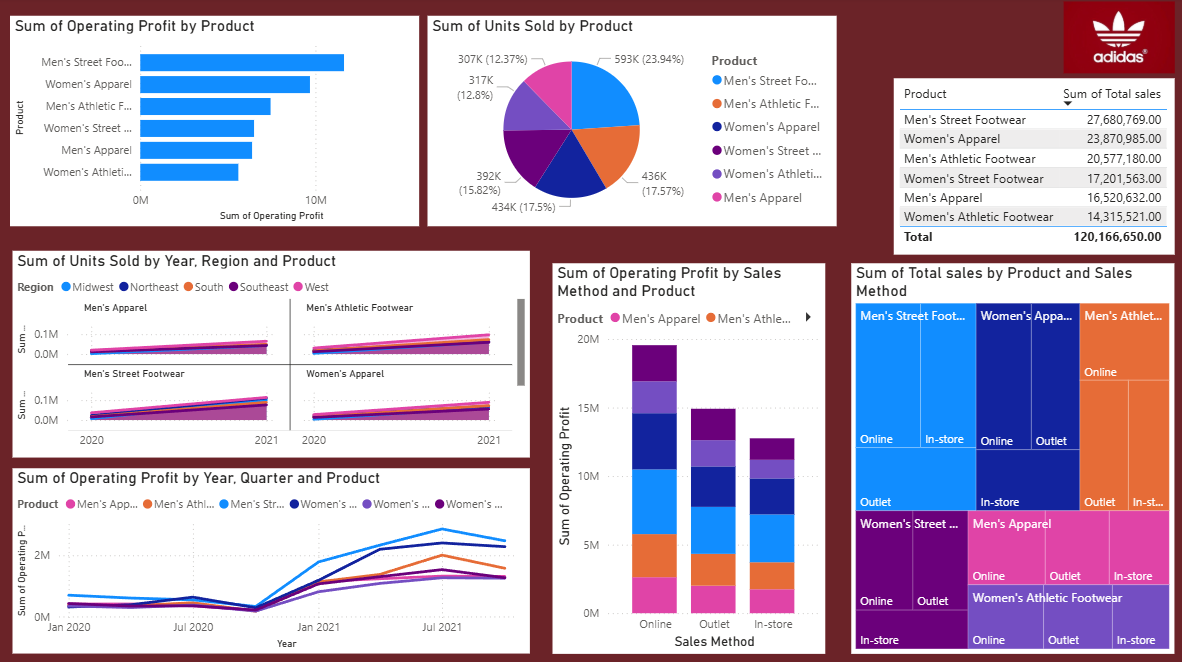

This screenshot's page, from the dashboard's own definition file:
{"tool":"powerbi","page":{"name":"•\tProduct Performance Analysis","canvas":[1280,720],"ordinal":3},"visuals":[{"type":"clusteredBarChart","fields":{"Y":["Sum(Data Sales Adidas.Operating Profit)"],"Category":["Data Sales Adidas.Product"]},"box":[11.4,20,441.4,227.1],"z":0},{"type":"pieChart","fields":{"Y":["Sum(Data Sales Adidas.Units Sold)"],"Category":["Data Sales Adidas.Product"]},"box":[461.4,20,441.4,227.1],"z":1000},{"type":"tableEx","fields":{"Values":["Data Sales Adidas.Product","Sum(Data Sales Adidas.Total sales)"]},"box":[964.3,87.1,302.9,190],"z":2000},{"type":"columnChart","fields":{"Category":["Data Sales Adidas.Sales Method"],"Series":["Data Sales Adidas.Product"],"Y":["Sum(Data Sales Adidas.Operating Profit)"]},"box":[595.7,287.1,294.3,421.4],"z":3000},{"type":"treemap","fields":{"Group":["Data Sales Adidas.Product"],"Values":["Sum(Data Sales Adidas.Total sales)"],"Details":["Data Sales Adidas.Sales Method"]},"box":[918.6,287.1,348.6,421.4],"z":4000},{"type":"areaChart","fields":{"Category":["Data Sales Adidas.Invoice Date.Variation.Date Hierarchy.Year"],"Y":["Sum(Data Sales Adidas.Units Sold)"],"Series":["Data Sales Adidas.Region"],"Rows":["Data Sales Adidas.Product"]},"box":[12.9,274.3,558.6,222.9],"z":5000},{"type":"lineChart","fields":{"Category":["Data Sales Adidas.Invoice Date.Variation.Date Hierarchy.Year","Data Sales Adidas.Invoice Date.Variation.Date Hierarchy.Quarter"],"Y":["Sum(Data Sales Adidas.Operating Profit)"],"Series":["Data Sales Adidas.Product"]},"box":[12.9,508.6,558.6,200],"z":6000},{"type":"image","box":[1135.7,0,144.3,87.1],"z":7000}]}

Visuals, with their boxes in screenshot pixels (x1, y1, x2, y2), scaled from the page's 1280x720 canvas onto the 1182x662 screenshot:
clusteredBarChart - Sum(Data Sales Adidas.Operating Profit) x Data Sales Adidas.Product: crop(11, 18, 418, 227)
pieChart - Sum(Data Sales Adidas.Units Sold) x Data Sales Adidas.Product: crop(426, 18, 834, 227)
tableEx - Data Sales Adidas.Product x Sum(Data Sales Adidas.Total sales): crop(890, 80, 1170, 255)
columnChart - Data Sales Adidas.Sales Method x Data Sales Adidas.Product: crop(550, 264, 822, 651)
treemap - Data Sales Adidas.Product x Sum(Data Sales Adidas.Total sales): crop(848, 264, 1170, 651)
areaChart - Data Sales Adidas.Invoice Date.Variation.Date Hierarchy.Year x Sum(Data Sales Adidas.Units Sold): crop(12, 252, 528, 457)
lineChart - Data Sales Adidas.Invoice Date.Variation.Date Hierarchy.Year x Data Sales Adidas.Invoice Date.Variation.Date Hierarchy.Quarter: crop(12, 468, 528, 652)
image: crop(1049, 0, 1181, 80)
